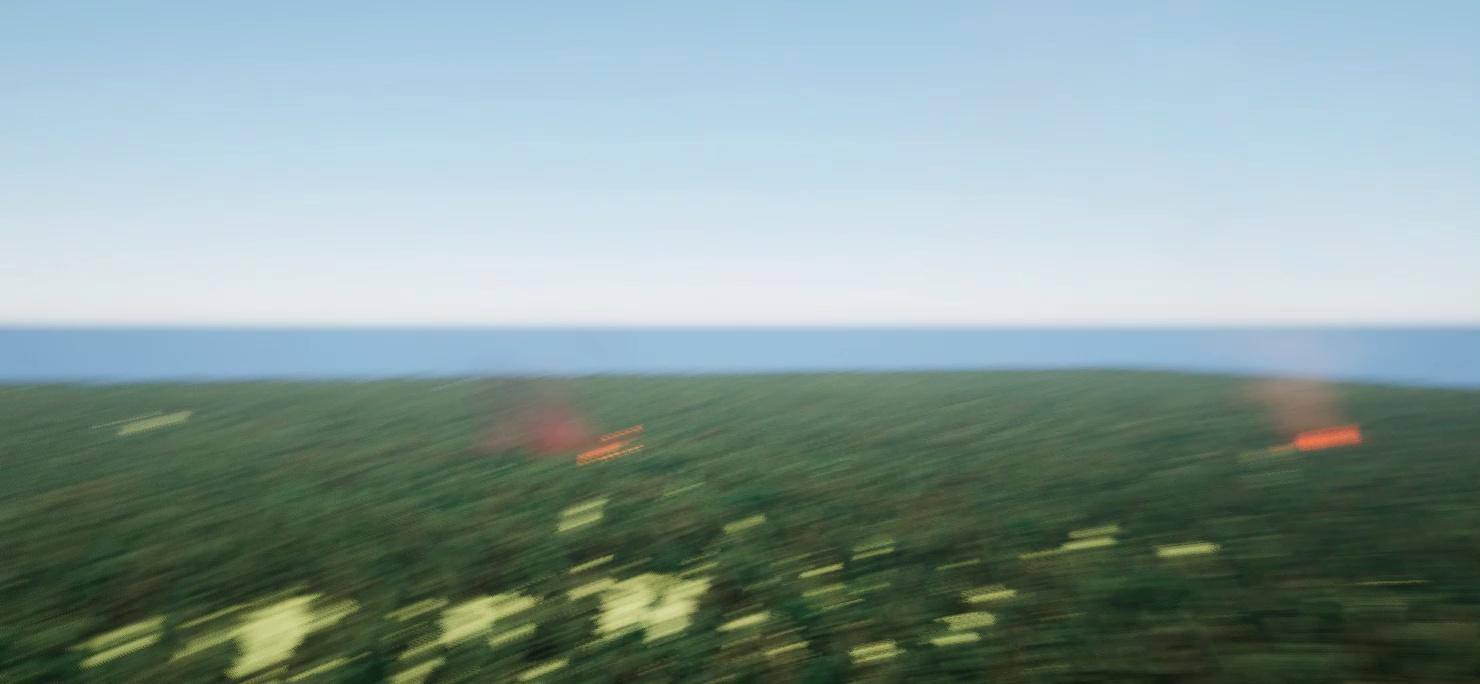fire: (1274, 423, 1375, 451), (577, 427, 647, 457)
smoke: (1239, 351, 1348, 429), (481, 383, 598, 450)
